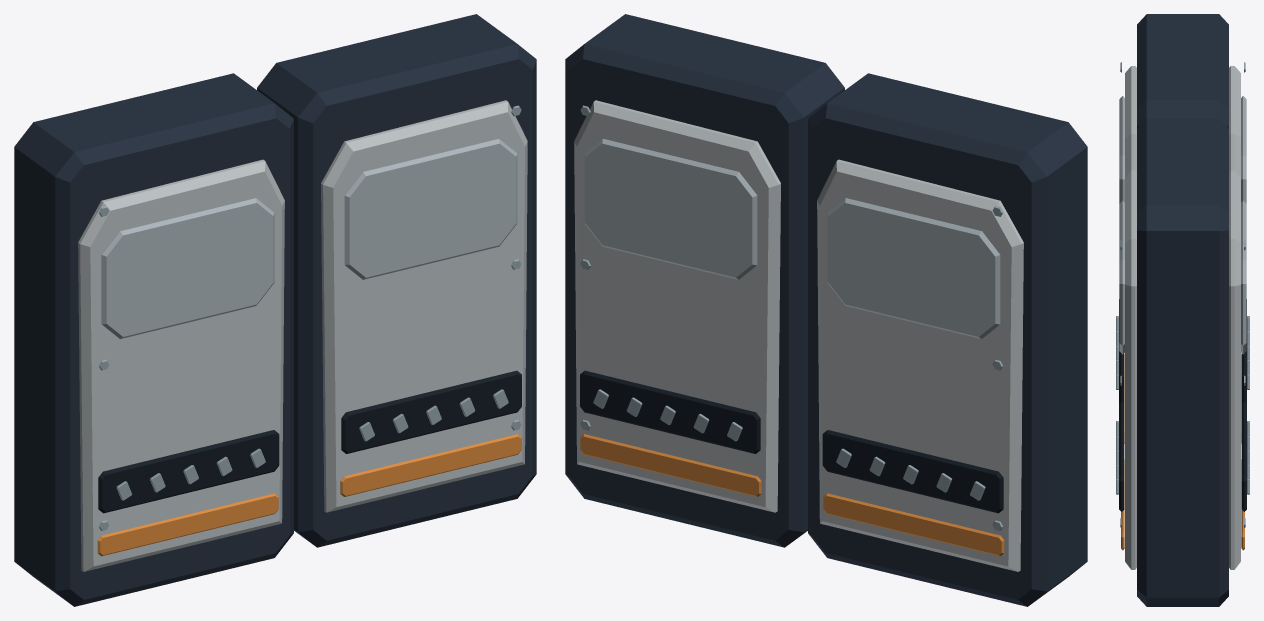
File: gate_panels.glb
The picture shows the model from 3 angles, left to right: view 1: azimuth 30°, elevation 25°; view 2: azimuth 150°, elevation 25°; view 3: azimuth 270°, elevation 25°; orthographic projection. The views are drawn at different scales.
Visible parts, largest first — view 1: gate_panels; view 2: gate_panels; view 3: gate_panels.
Part boxes in pixels (box(x1,y1,x2,y2)): gate_panels: box(14, 14, 536, 606); gate_panels: box(565, 14, 1087, 606); gate_panels: box(1116, 14, 1249, 606).
Bounding box in the file's own units: 3.46 × 3.12 × 0.942.
